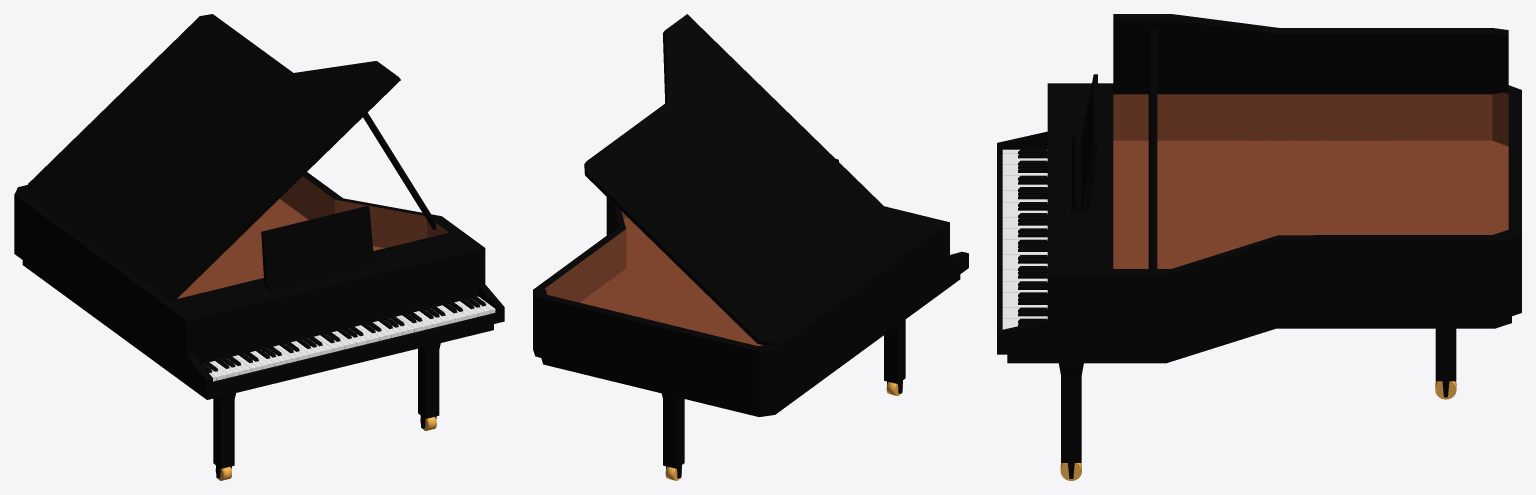
The model's file is Piano.fbx.
3 renders of one model, left to right at view 1: azimuth 30°, elevation 25°; view 2: azimuth 150°, elevation 25°; view 3: azimuth 270°, elevation 25°, orthographic. The views are drawn at different scales.
Visible parts, largest first — view 1: Piano; view 2: Piano; view 3: Piano.
Boxes of the visible parts, left/top/right/bottom form: Piano: left=14, top=14, right=504, bottom=480; Piano: left=533, top=14, right=968, bottom=480; Piano: left=997, top=14, right=1521, bottom=480.
Bounding box in the file's own units: 200 × 221 × 230.
Materials: 1 (1 with a texture image).
